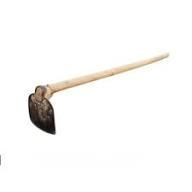HOUE: (26, 54, 182, 157)
